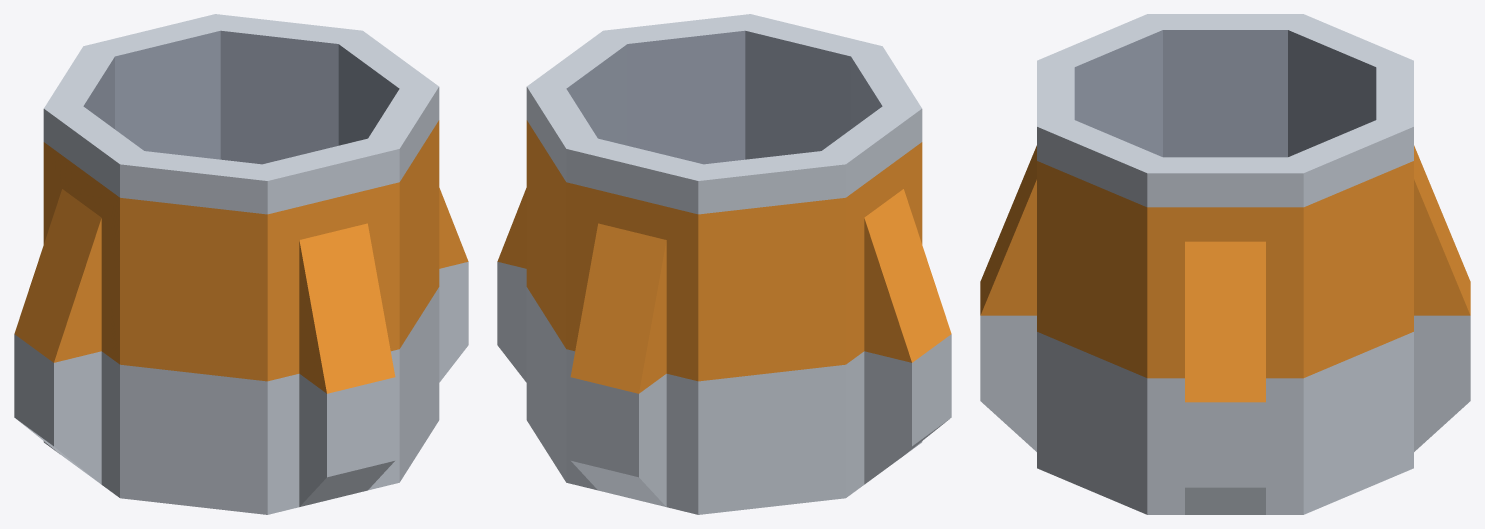
File: rocket_sidesB.glb
3 views of the same model, side by side, from view 1: azimuth 30°, elevation 25°; view 2: azimuth 150°, elevation 25°; view 3: azimuth 270°, elevation 25° (orthographic). The views are drawn at different scales.
Parts seen in each view (by area): view 1: rocket_sidesB; view 2: rocket_sidesB; view 3: rocket_sidesB.
Boxes of the visible parts, x1,y1,x2,y2 form: rocket_sidesB: [14, 14, 468, 514]; rocket_sidesB: [497, 14, 951, 514]; rocket_sidesB: [980, 14, 1470, 514].
Size of the model in its own units: 1.3 by 1 by 1.3.
